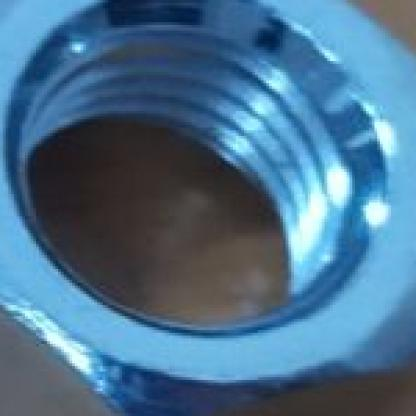FOD: (2, 5, 414, 415)
